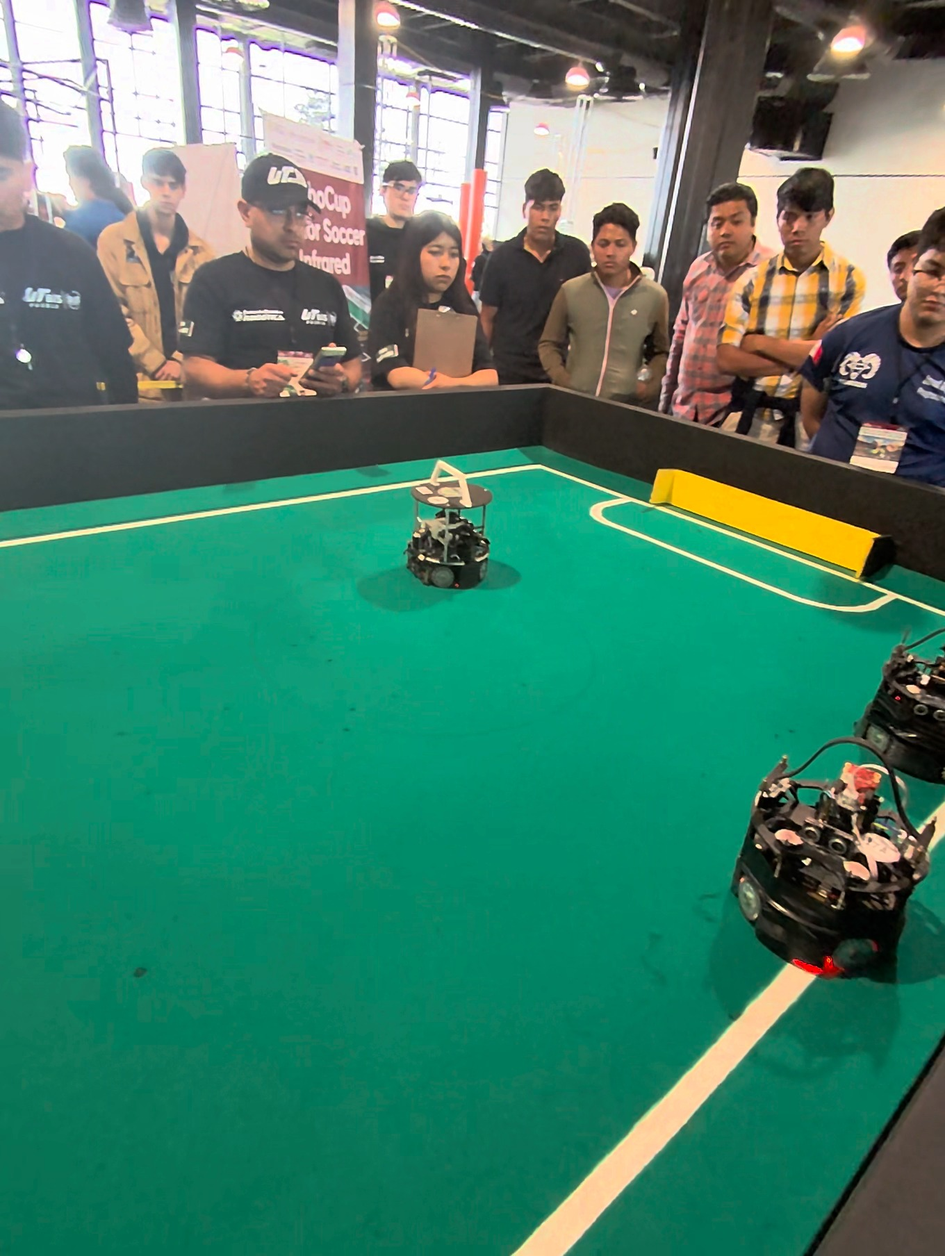Robot: (737, 724, 936, 991), (861, 620, 941, 793), (400, 465, 494, 601)
